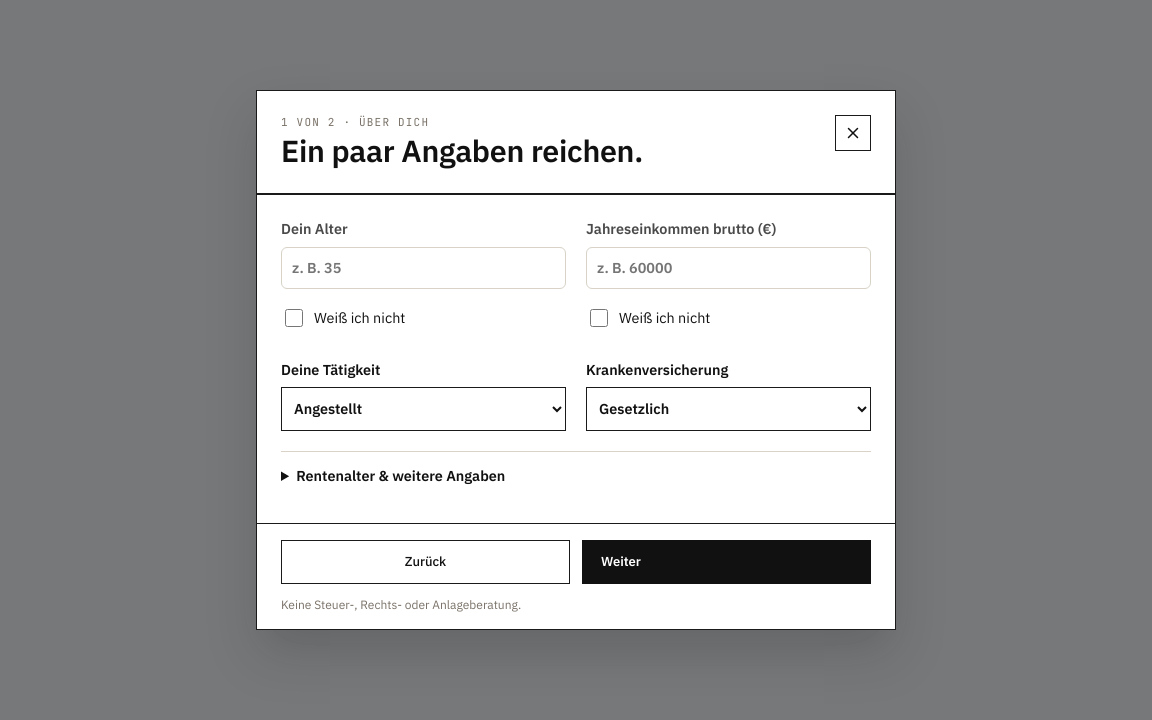
Test: two-step onboarding › preserves raw profile values on back and switches the self-employed income label
Type "35" into the number field labelled "Dein Alter" at (424, 268), box [282,248,565,288]
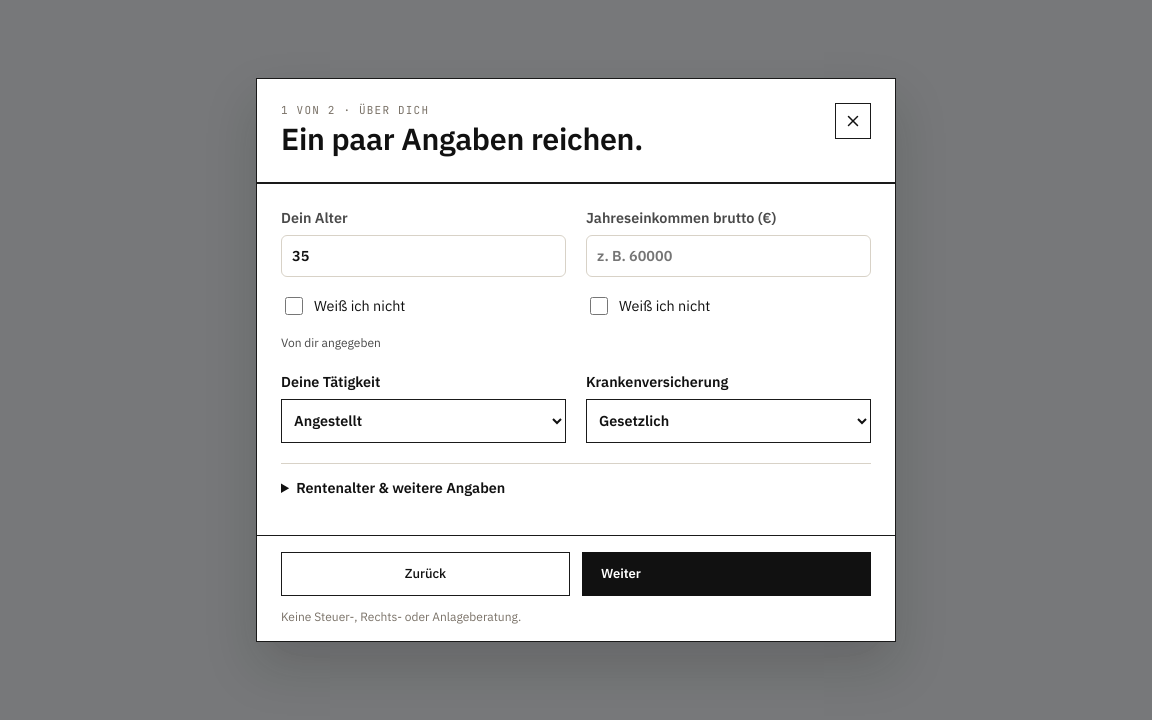
Select "Selbstständig" in the dropdown labelled "Deine Tätigkeit" at (424, 421), box [281,399,566,443]
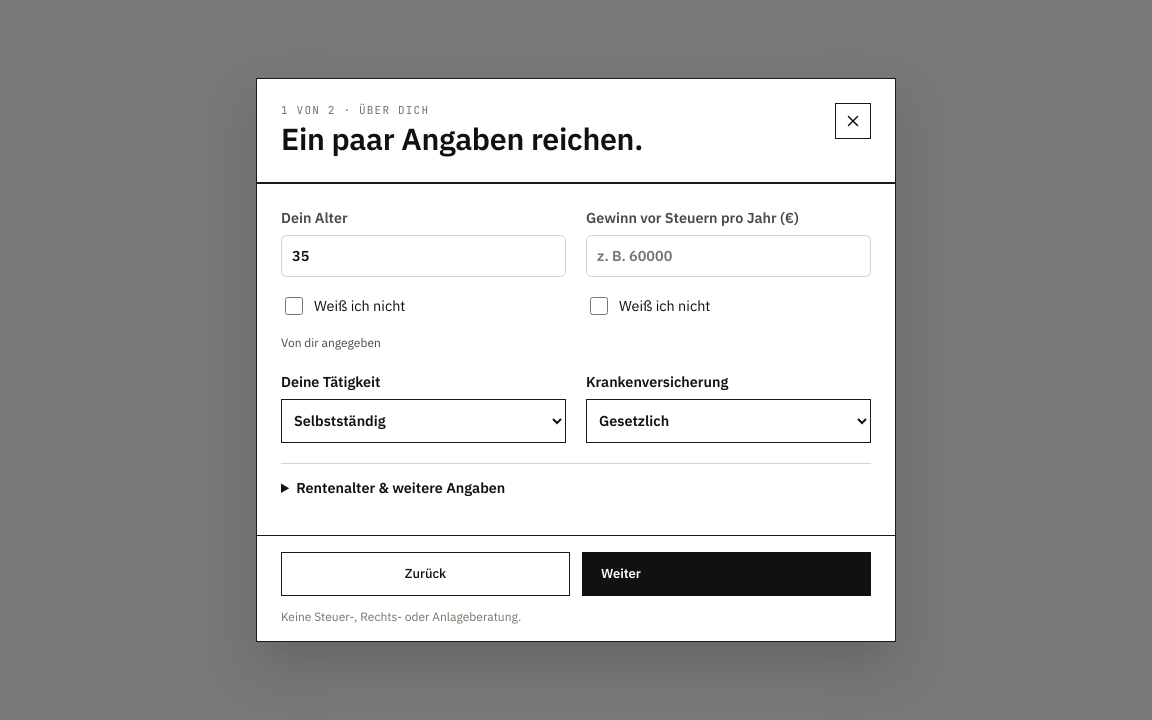
Type "72000" into the number field labelled "Gewinn vor Steuern pro Jahr (€)" at (728, 256), box [587,236,870,276]
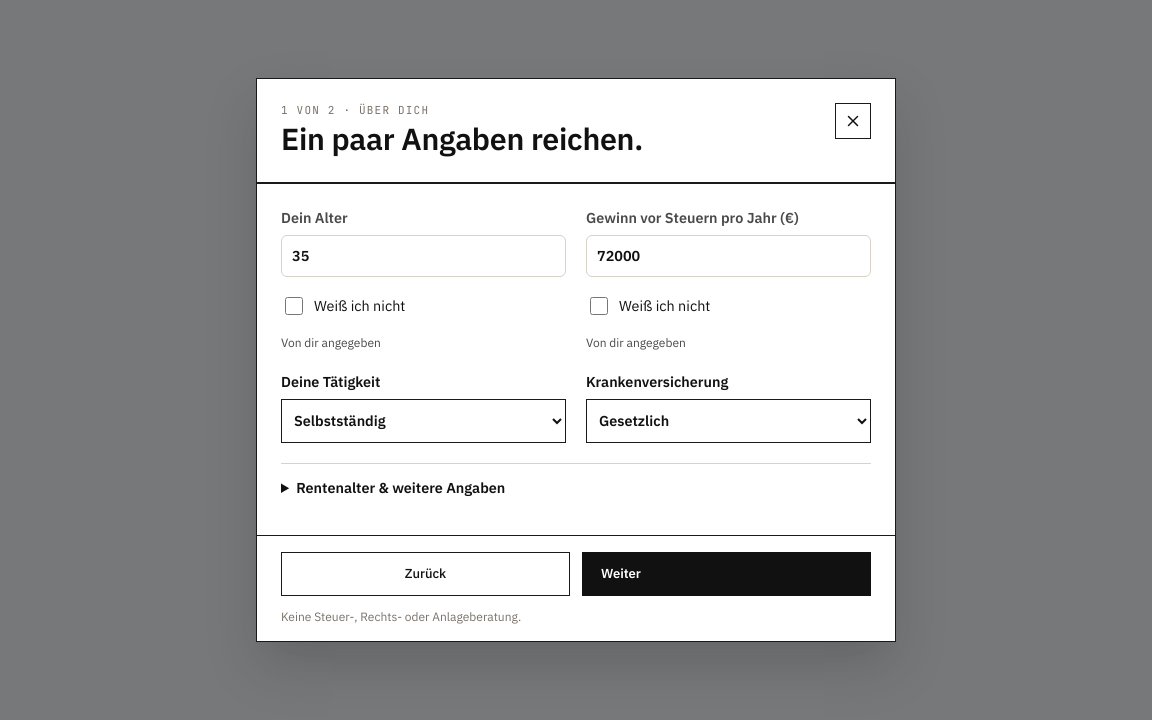
Click the button "Weiter" at (621, 574), box [582,552,871,596]
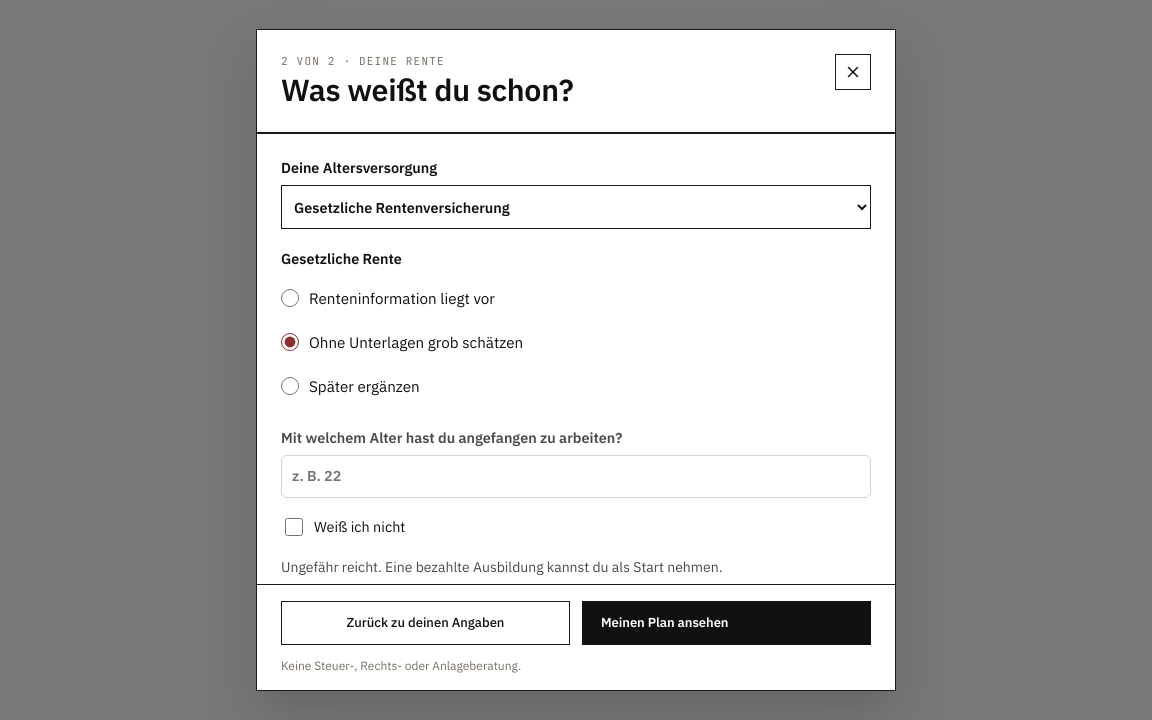
Result: the dropdown labelled "Deine Altersversorgung" is shown at [281,185,871,229]
Click the button "Zurück zu deinen Angaben" at (426, 623), box [281,601,570,645]
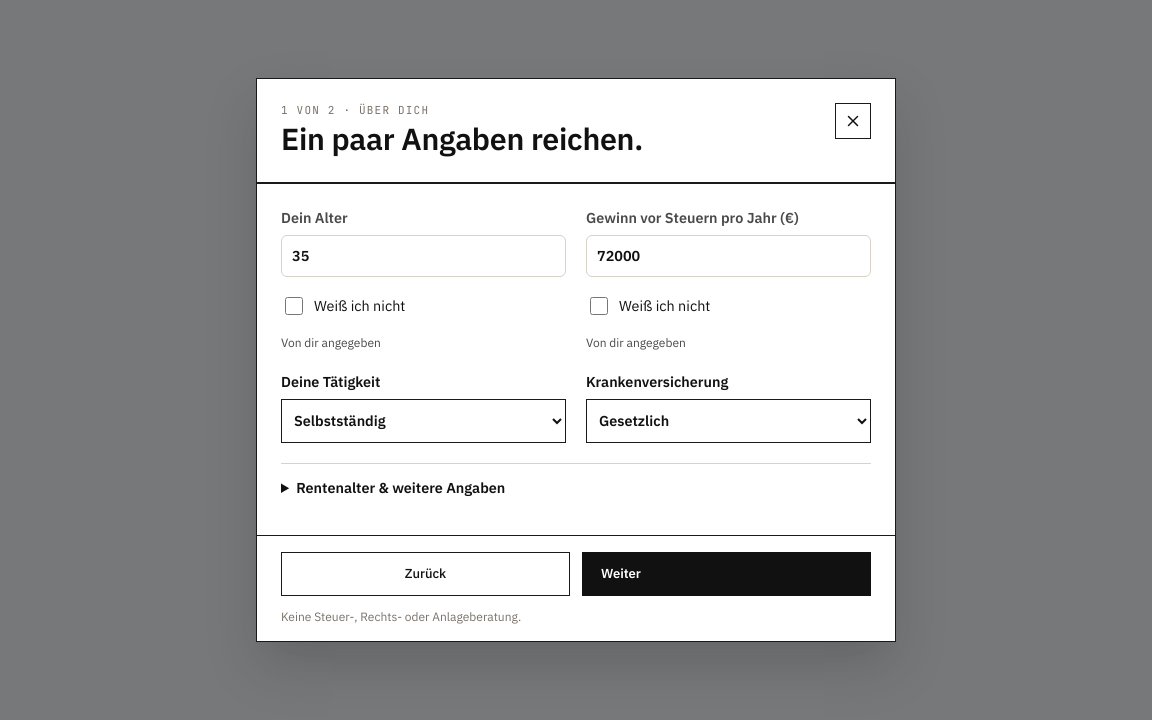
Result: the number field labelled "Gewinn vor Steuern pro Jahr (€)" holds "72000" at [587,236,870,276]
